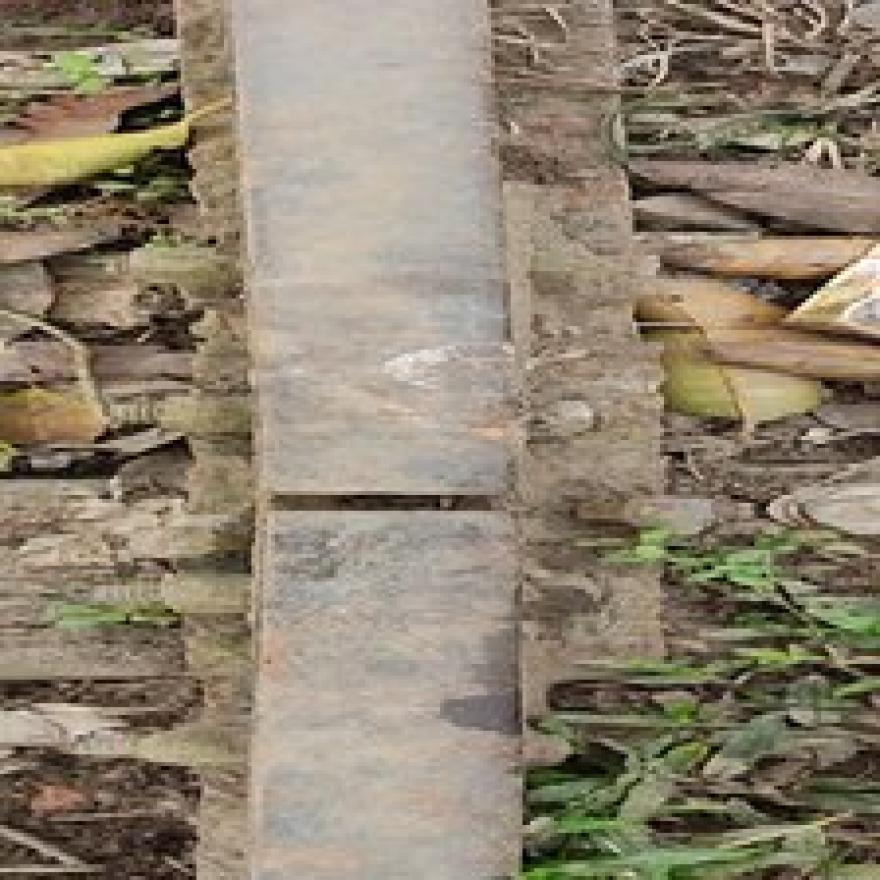railway-gap: (212, 329, 588, 672)
